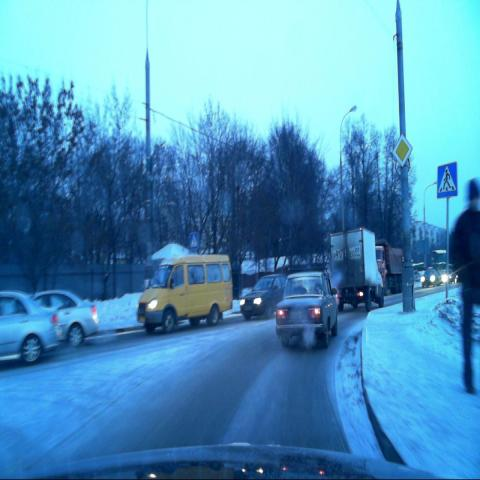5_19_1: (436, 162, 458, 199)
